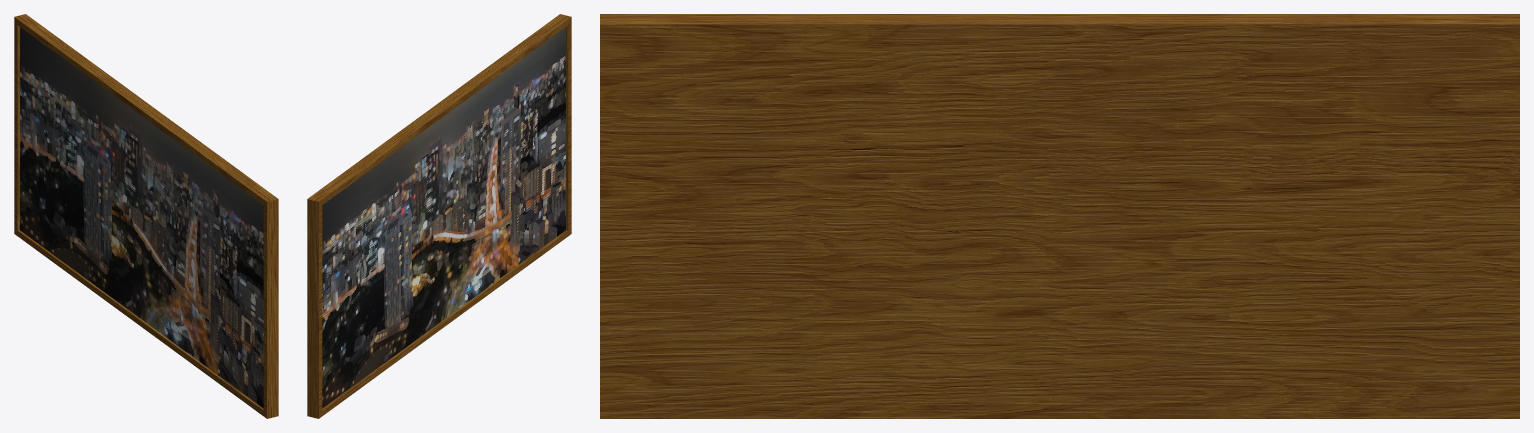
Rendered from WallPicture.fbx.
3 views of the same model, side by side, from view 1: azimuth 30°, elevation 25°; view 2: azimuth 150°, elevation 25°; view 3: azimuth 270°, elevation 25° (orthographic). The views are drawn at different scales.
Parts seen in each view (by area): view 1: WallPicture; view 2: WallPicture; view 3: WallPicture.
Part boxes in pixels (box(x1,y1,x2,y2)): WallPicture: box(14, 14, 278, 418); WallPicture: box(307, 14, 571, 418); WallPicture: box(600, 14, 1519, 418).
Size of the model in its own units: 8.53 by 152 by 320.
